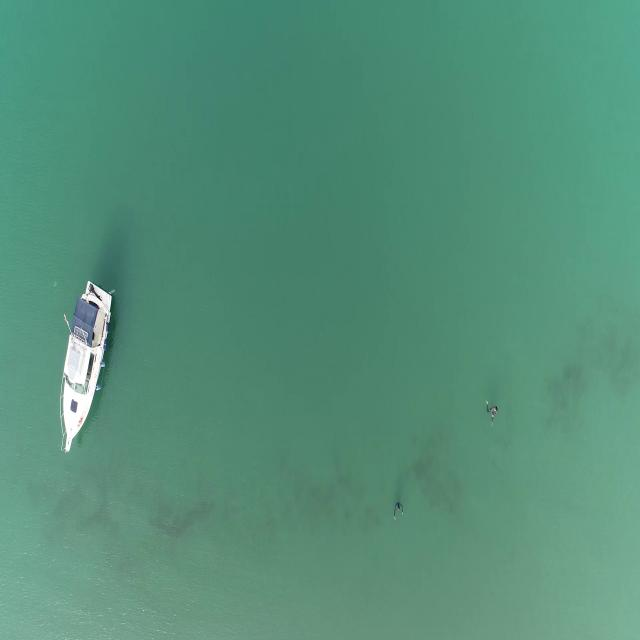boat: (54, 281, 116, 455)
person: (484, 401, 498, 424), (392, 501, 405, 524)
